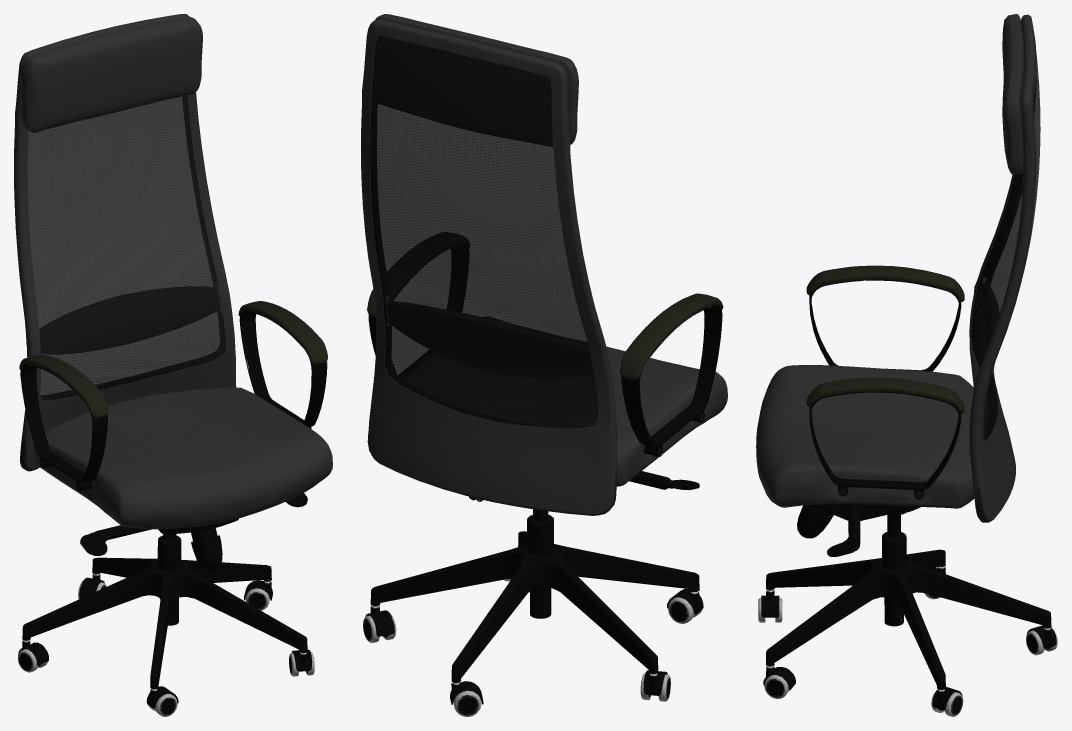
The model's file is 06 - MARKUS Office chair - Vissle dark grey Medium.glb.
The picture shows the model from 3 angles, left to right: view 1: azimuth 30°, elevation 25°; view 2: azimuth 150°, elevation 25°; view 3: azimuth 270°, elevation 25°; orthographic projection. The views are drawn at different scales.
Parts seen in each view (by area): view 1: Mesh_1, Mesh_0; view 2: Mesh_1, Mesh_0; view 3: Mesh_1, Mesh_0.
Part boxes in pixels (<box>): Mesh_1: <box>14,14,332,716</box>; Mesh_0: <box>27,95,225,400</box>; Mesh_1: <box>361,14,727,716</box>; Mesh_0: <box>370,36,598,427</box>; Mesh_1: <box>756,14,1057,716</box>; Mesh_0: <box>971,53,1040,440</box>.
Size of the model in its own units: 0.6301 by 1.35 by 0.6107.
2 materials, 2 textured.
